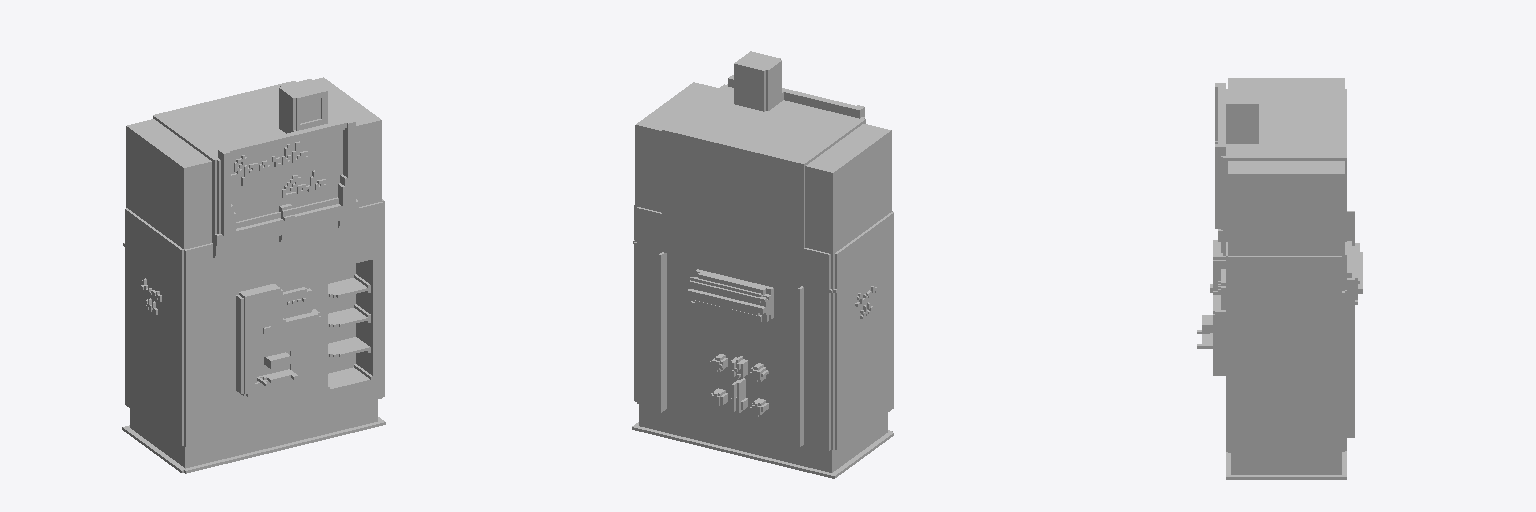
The model's file is sparkle_cola_machine.obj.
3 views of the same model, side by side, from view 1: azimuth 30°, elevation 25°; view 2: azimuth 150°, elevation 25°; view 3: azimuth 270°, elevation 25° (orthographic).
Visible parts, largest first — view 1: Mesh1 Model; view 2: Mesh1 Model; view 3: Mesh1 Model.
Boxes of the visible parts, <box> form: Mesh1 Model: <box>122,77,385,473</box>; Mesh1 Model: <box>632,51,893,478</box>; Mesh1 Model: <box>1197,78,1362,479</box>.
Bounding box in the file's own units: 1.52 × 2.46 × 1.06.